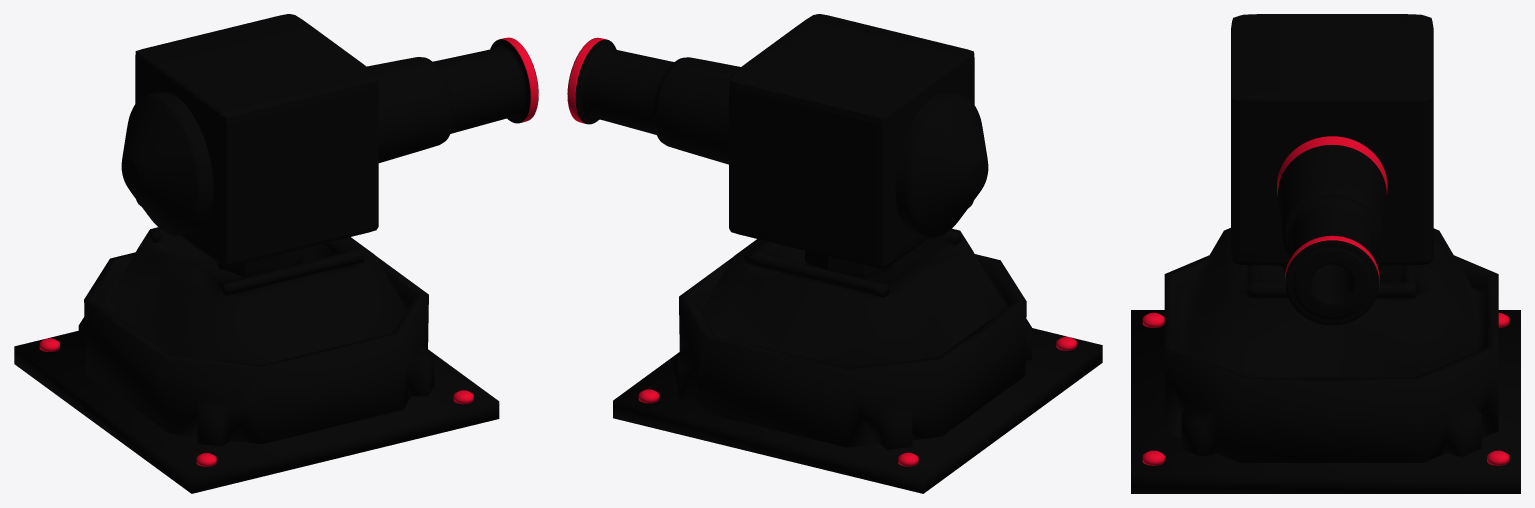
File: cannon.fbx
3 views of the same model, side by side, from view 1: azimuth 30°, elevation 25°; view 2: azimuth 150°, elevation 25°; view 3: azimuth 270°, elevation 25° (orthographic). The views are drawn at different scales.
Visible parts, largest first — view 1: Plane_LOD0, Base_LOD0, Rifle_LOD0; view 2: Plane_LOD0, Base_LOD0, Rifle_LOD0; view 3: Plane_LOD0, Base_LOD0, Rifle_LOD0.
Boxes of the visible parts, x1,y1,x2,y2 form: Plane_LOD0: (14,227,499,493); Base_LOD0: (135,14,378,276); Rifle_LOD0: (121,37,538,236); Plane_LOD0: (613,228,1102,493); Base_LOD0: (729,14,974,278); Rifle_LOD0: (567,37,988,238); Plane_LOD0: (1131,228,1520,493); Base_LOD0: (1231,14,1433,272); Rifle_LOD0: (1277,136,1387,325).
Size of the model in its own units: 477 by 355 by 350.
